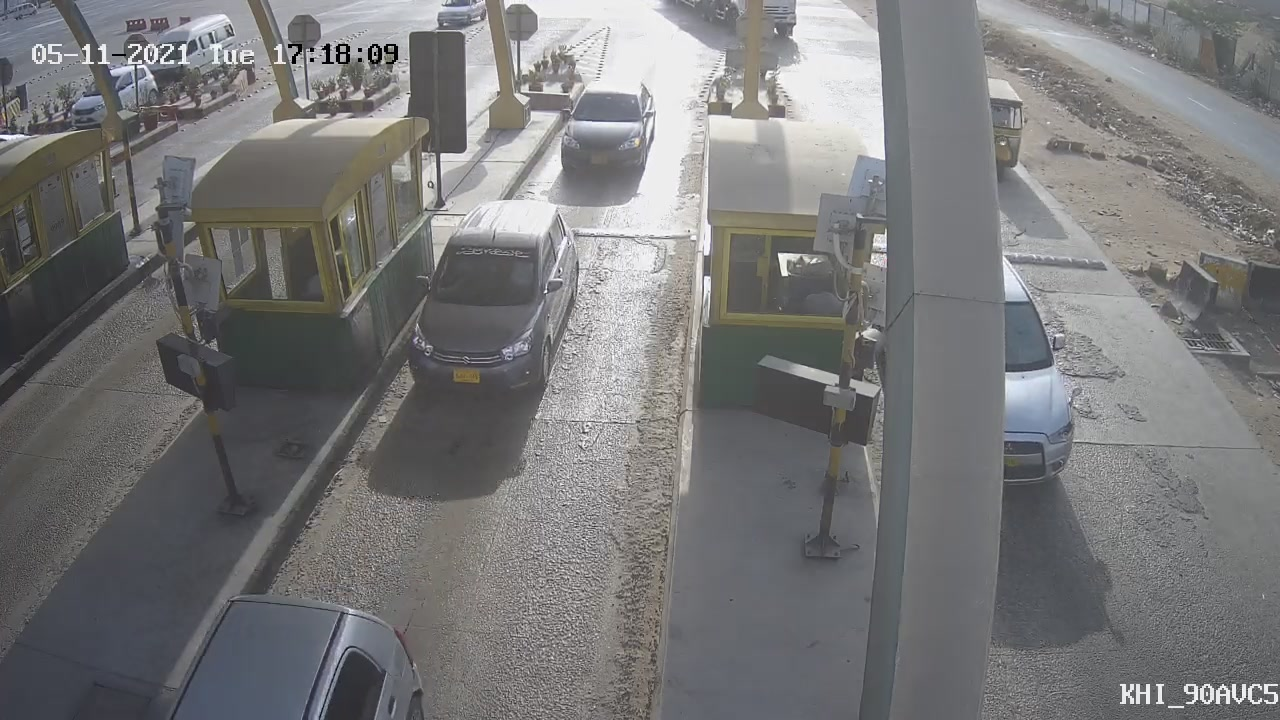F1: (387, 185, 590, 420), (539, 62, 669, 194)
